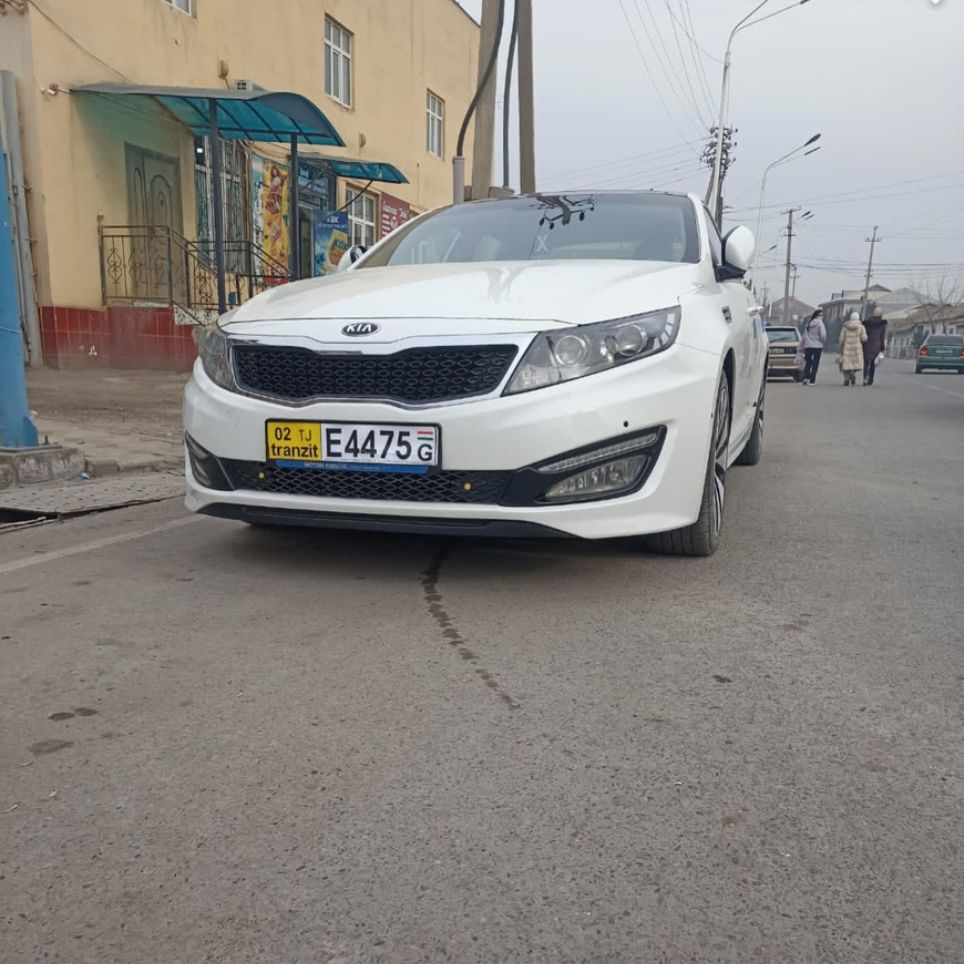license plate: (264, 416, 442, 474)
truck: (163, 171, 798, 585)
